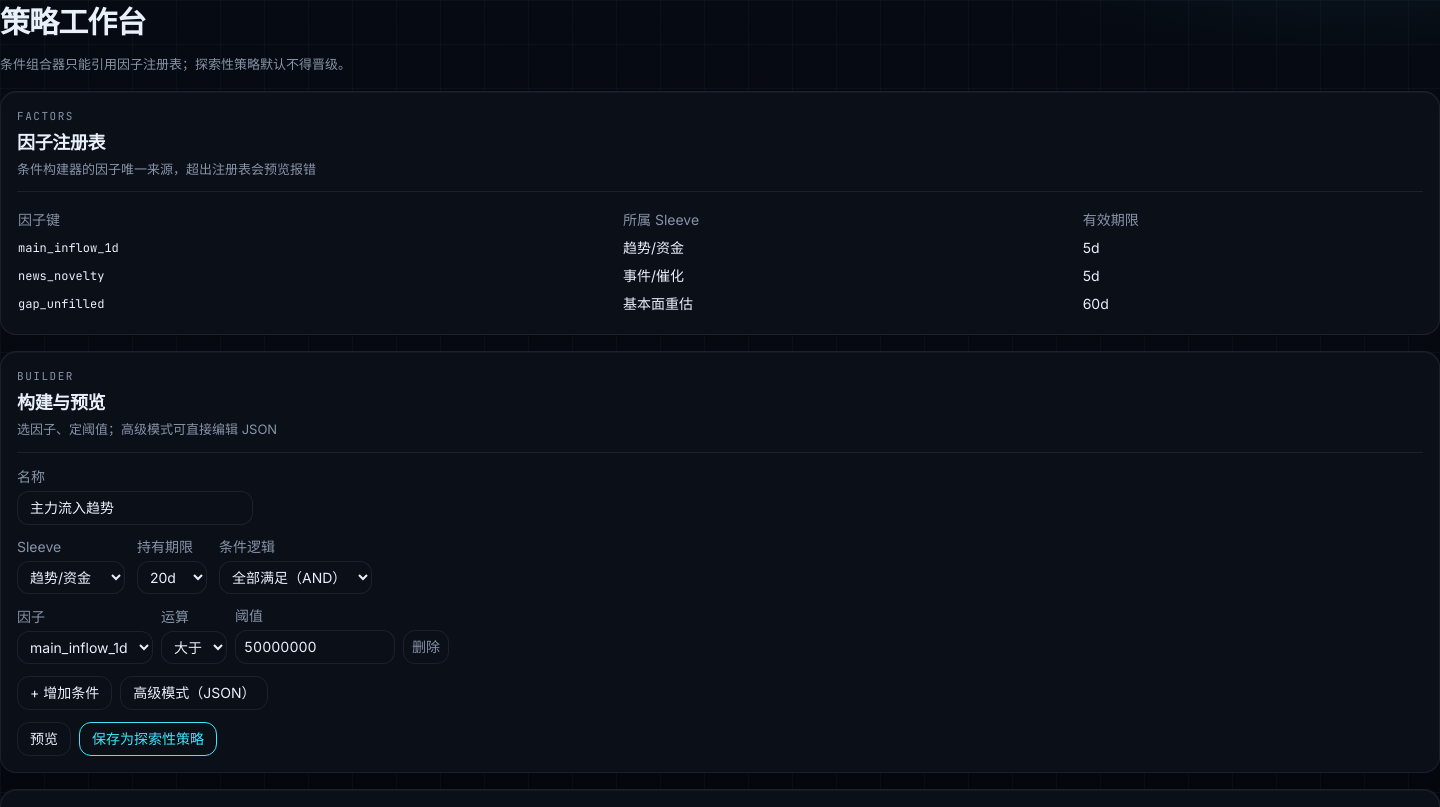
Test: DeskStrategiesView › previews the DSL built by the structured builder
Click the button "预览": (44, 739) [17, 722, 71, 756]
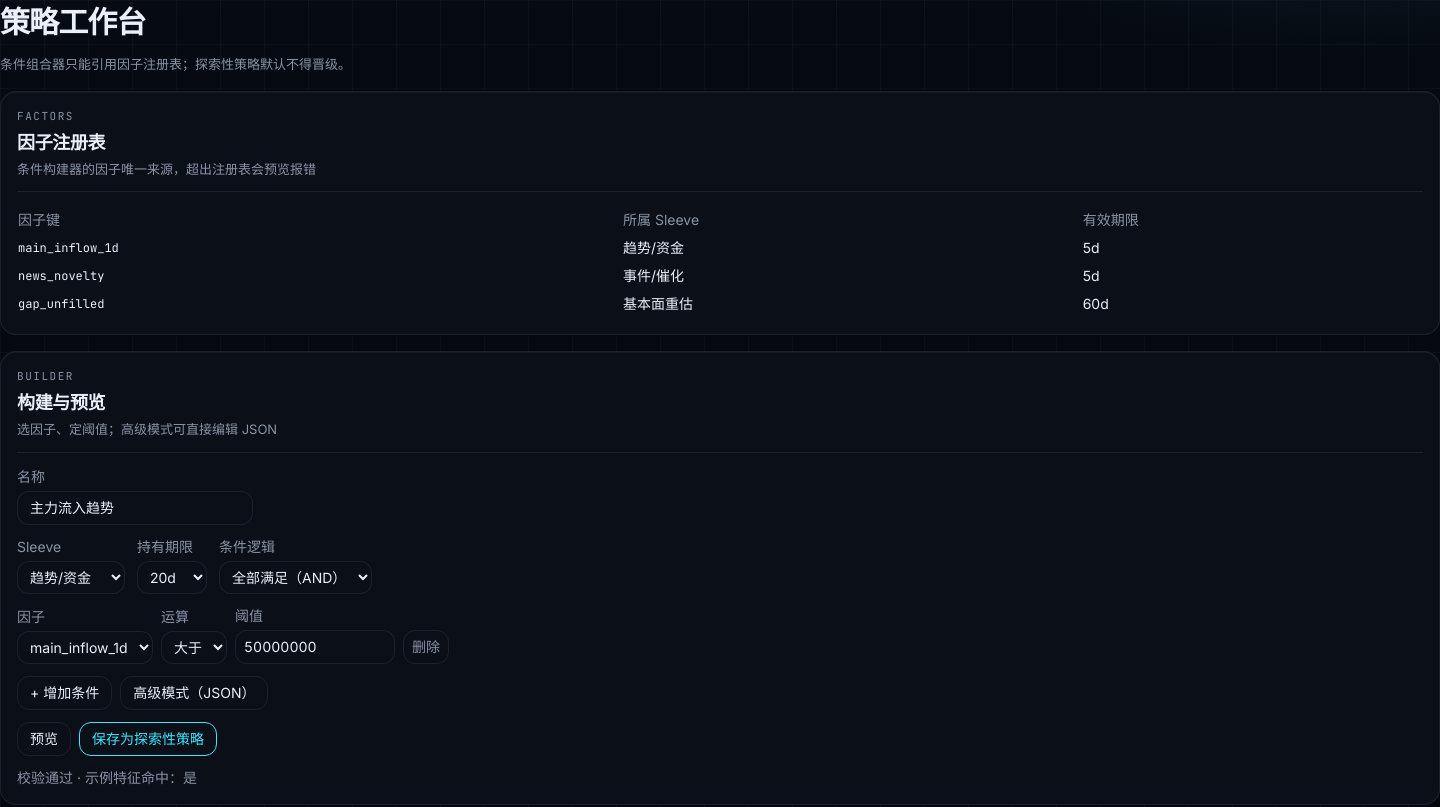
expect the cell "main_inflow_1d" is shown: met, box [17, 234, 622, 262]
expect the text "校验通过 · 示例特征命中：是" is shown: met, box [17, 769, 197, 786]
